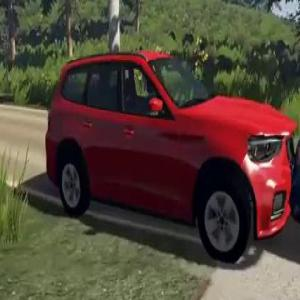minor: (41, 39, 300, 271)
